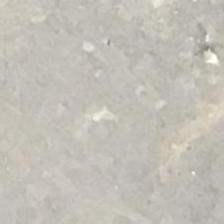Non_Crack: (16, 18, 224, 224)
